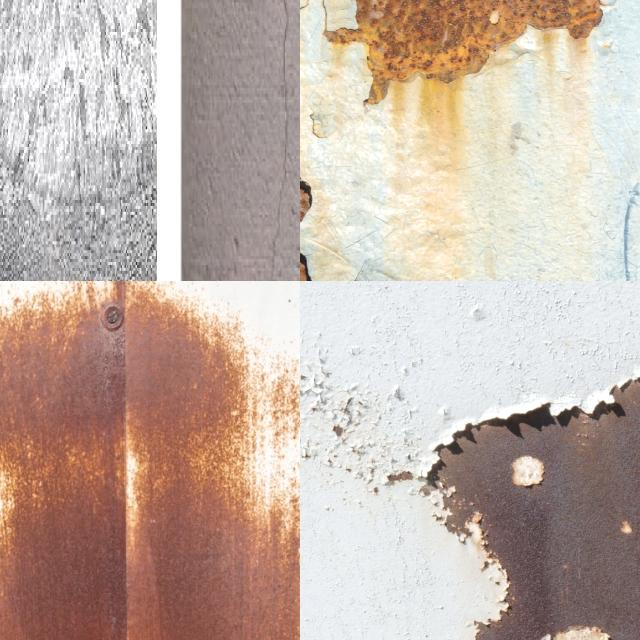Crack: (271, 0, 294, 281)
Pitting Corrosion: (327, 0, 602, 104)
Uniform Corrosion: (0, 281, 300, 640), (121, 281, 300, 640), (437, 378, 640, 640), (0, 281, 123, 640)
